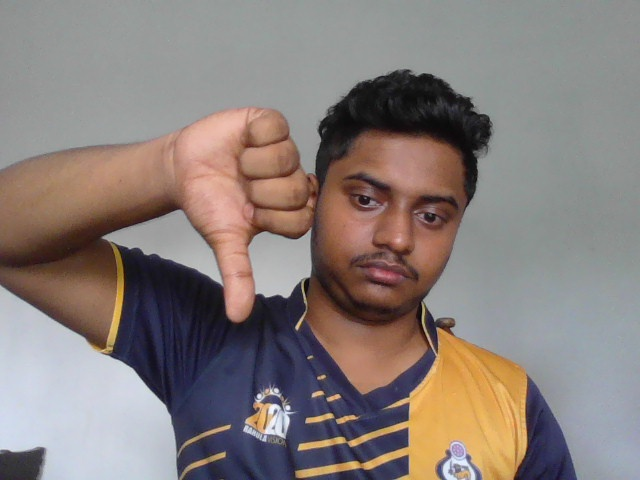Disagree: (172, 107, 313, 326)
